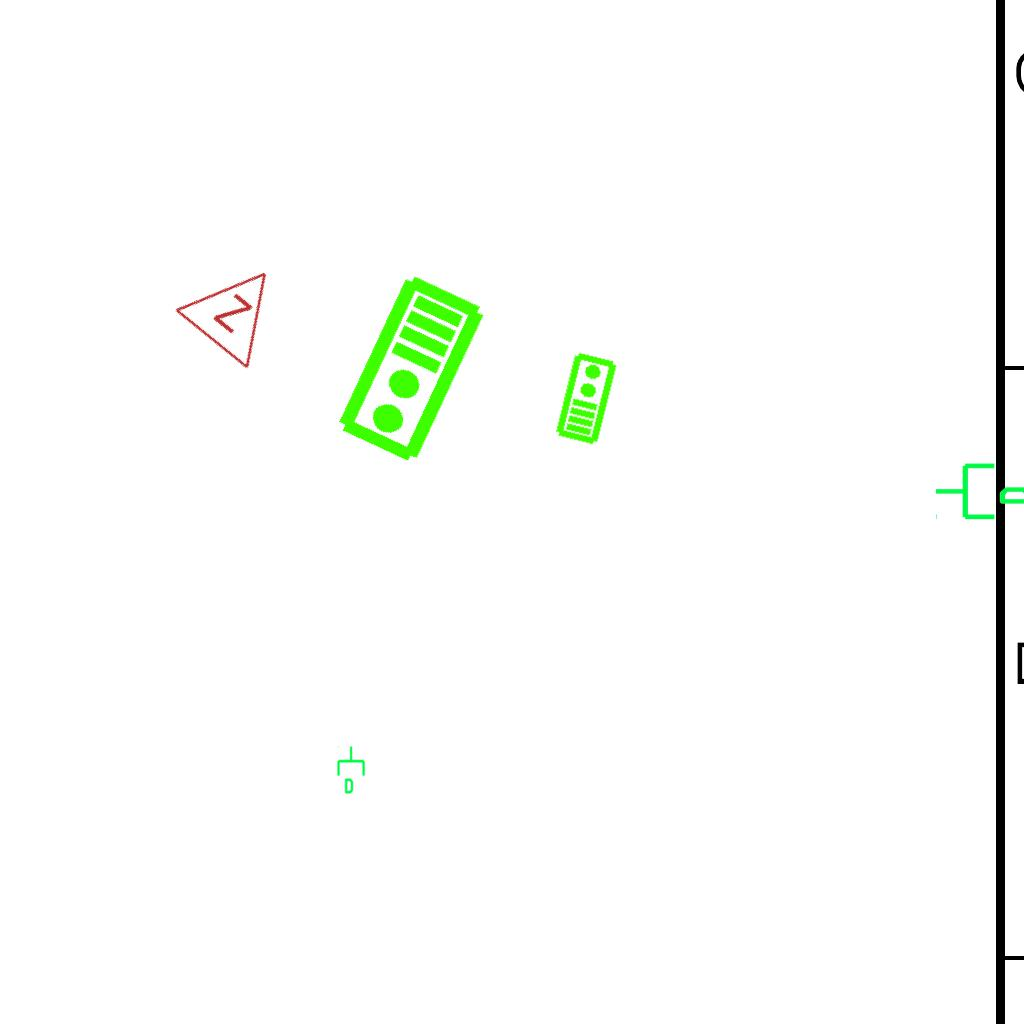Datenanschluss_einfach: (933, 455, 1024, 524), (335, 745, 369, 795)
Gegensprechanlage_mit_Video: (332, 270, 493, 470), (552, 349, 619, 447)
Zimmersignalleuchte: (167, 236, 307, 376)
